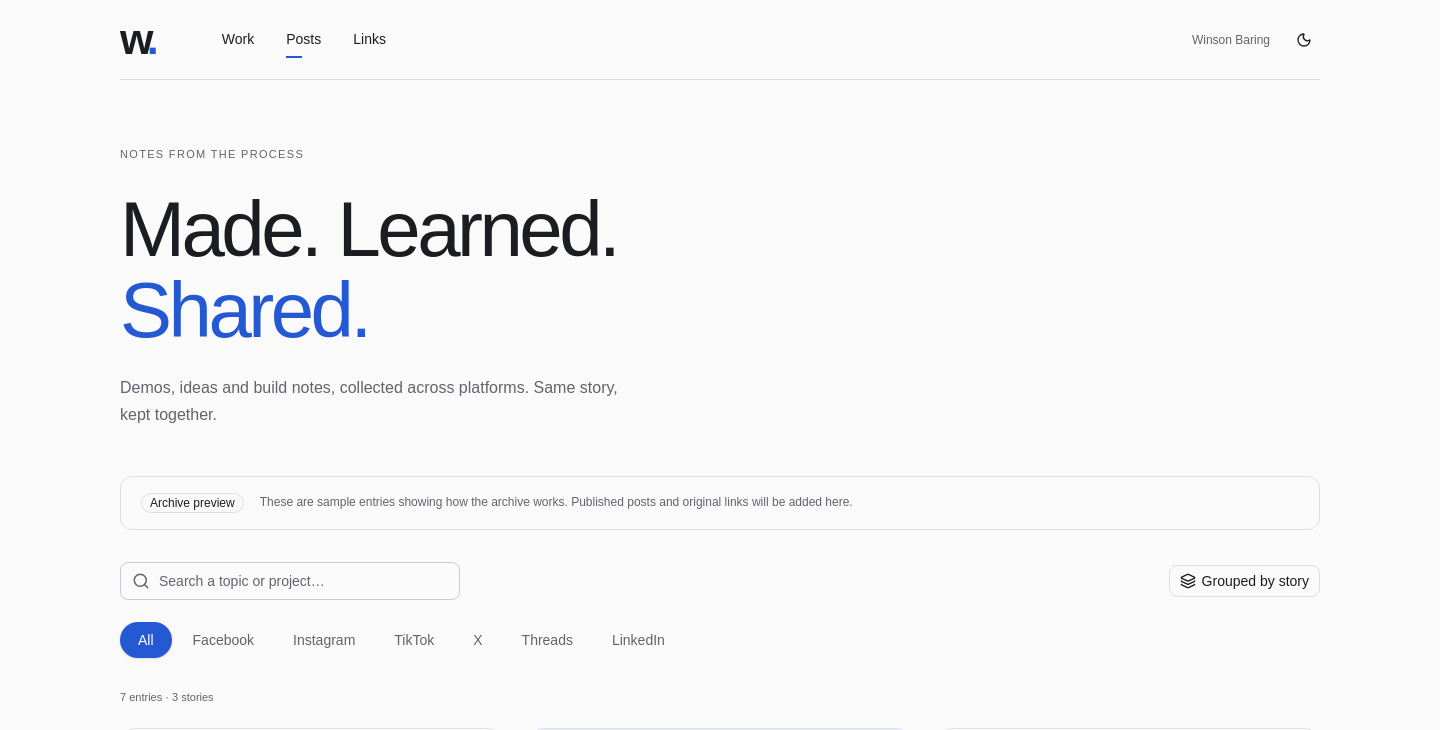
it: Portfolio visitor paths › switches from grouped stories to individual posts
The image size is (1440, 730).
Expected: the message shows "3 stories", [120, 691, 214, 703]
Click the button "Grouped by story". click: {"x": 1244, "y": 581}
box: [1169, 565, 1320, 597]
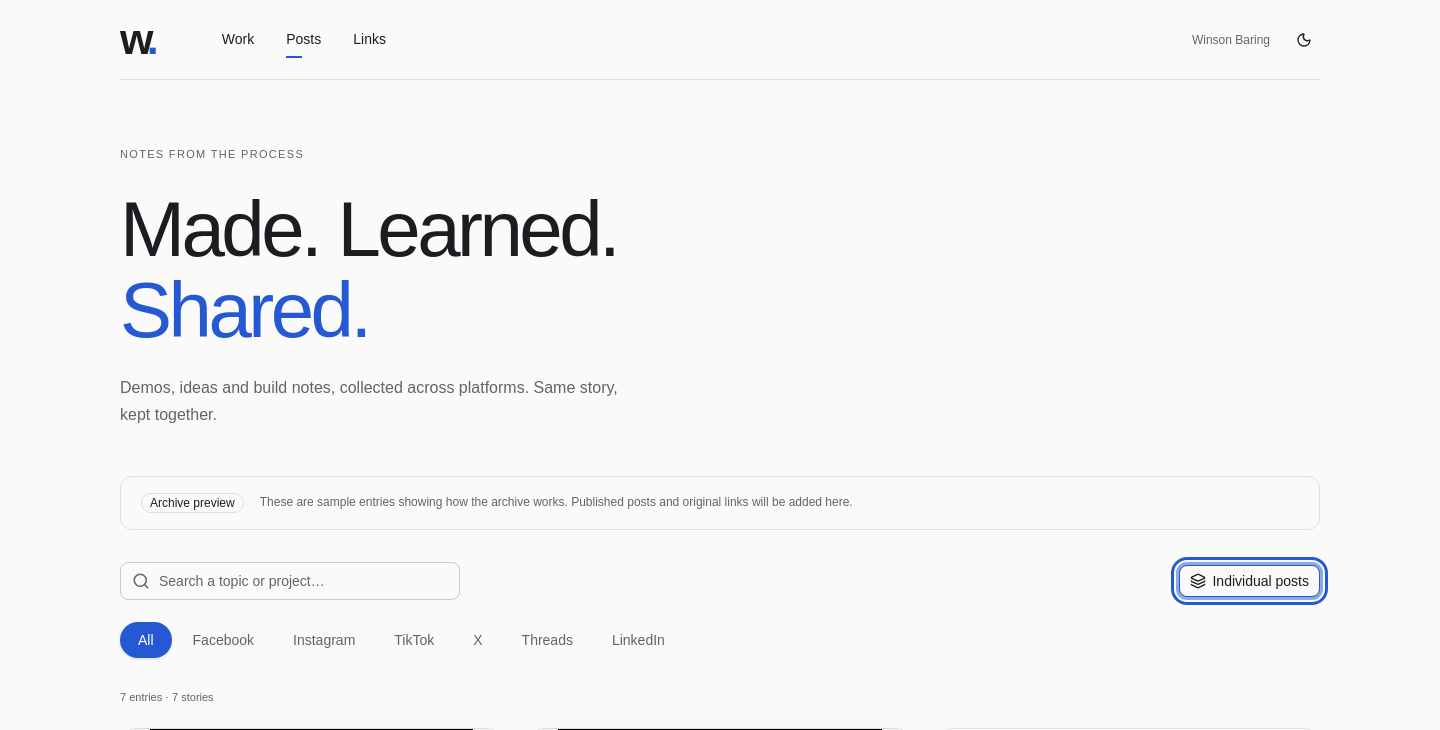
Expected: the message shows "7 stories", [120, 691, 214, 703]
